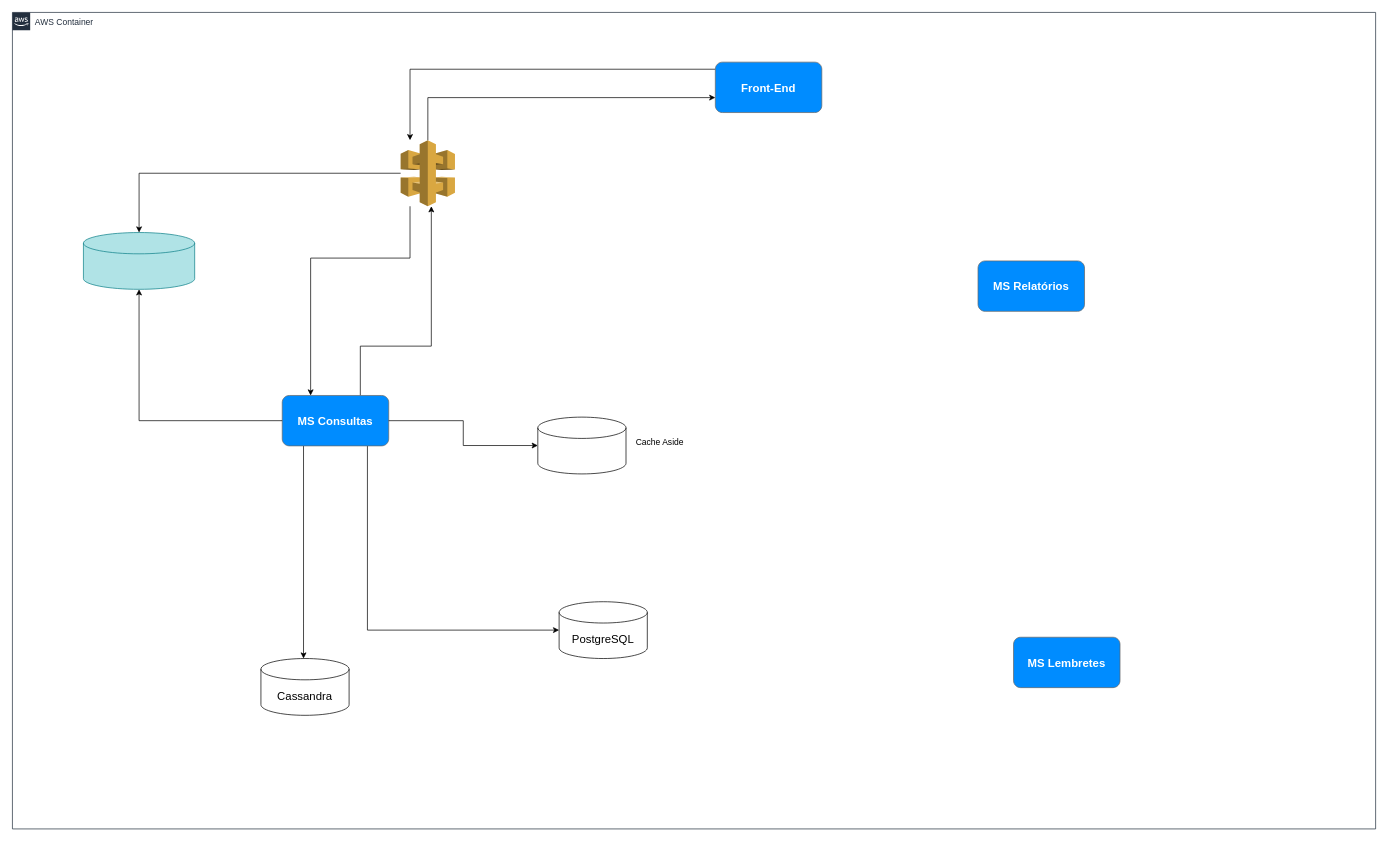
This 1388x841 diagram has some shape labels left out. The shapes that lost their labels are listed below. From the top down, each one's centre as x and y in pixels, then its label:
At point (427, 219): "Api Gateway".
At point (139, 260): "Kafka - Consultas".
At point (581, 445): "Redis".
